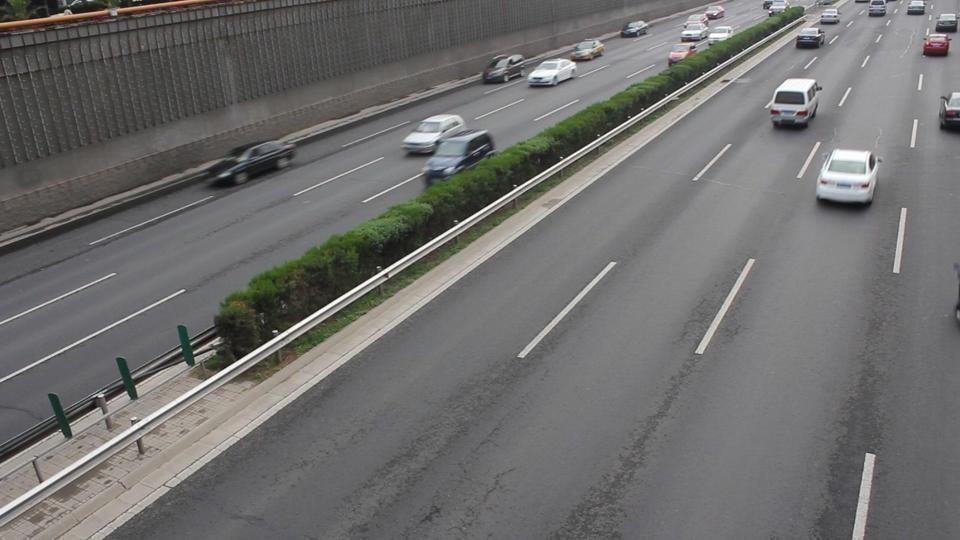car: (204, 140, 298, 189), (422, 126, 496, 184), (815, 148, 881, 206), (766, 78, 823, 130), (401, 113, 464, 157), (527, 58, 576, 88), (483, 53, 527, 84), (939, 92, 960, 131), (571, 38, 605, 61), (921, 32, 952, 57), (795, 26, 826, 50), (952, 260, 960, 328), (936, 13, 958, 33), (868, 0, 887, 17), (819, 10, 840, 25), (907, 0, 926, 16)
